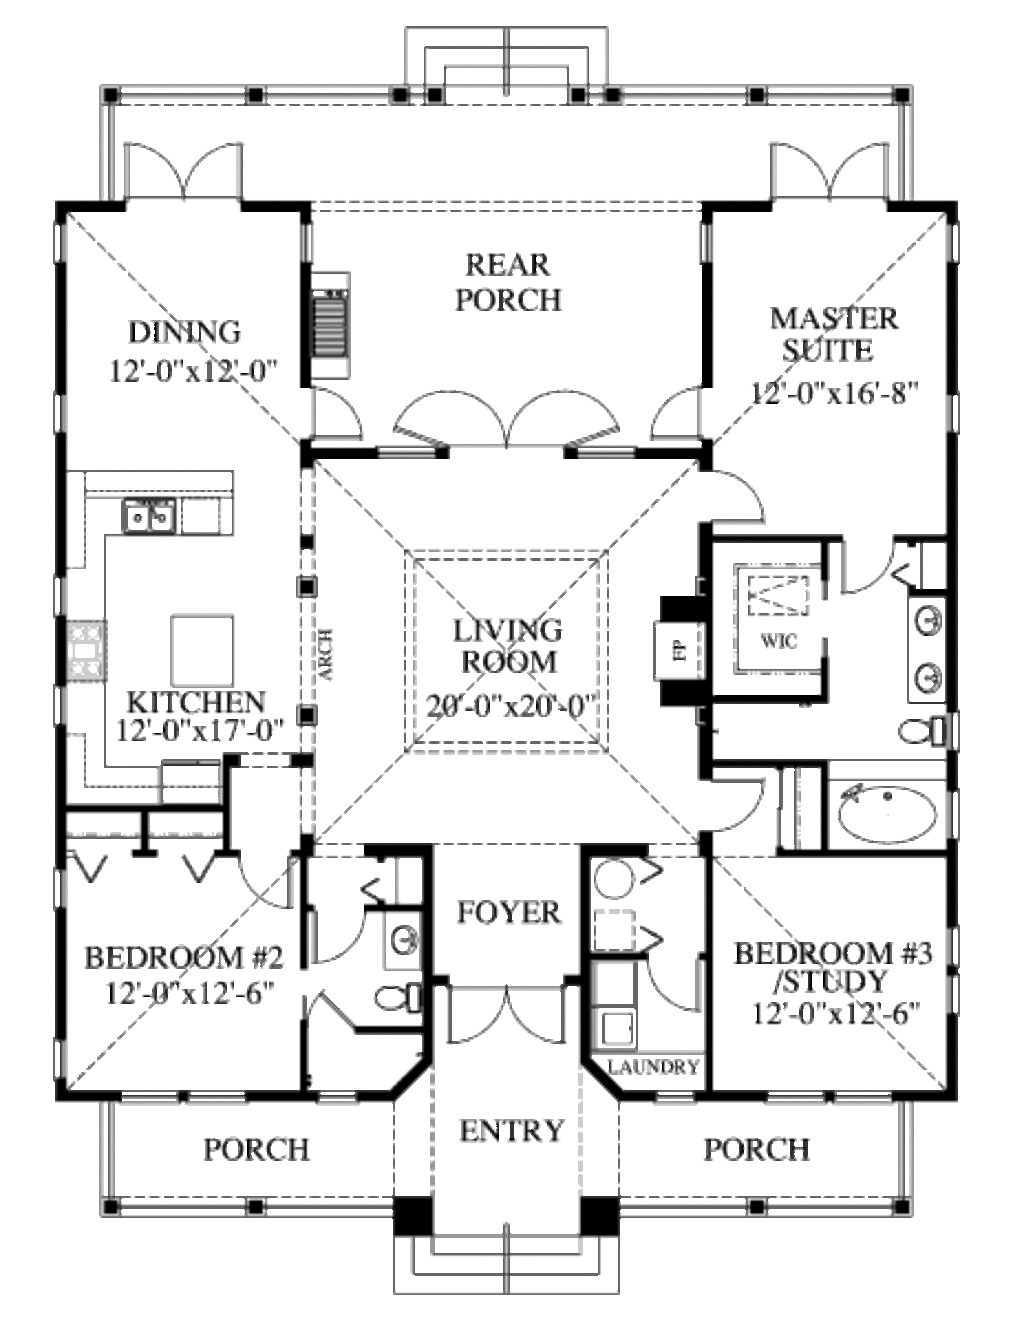door: (391, 386, 617, 456), (768, 138, 891, 208), (445, 983, 569, 1050), (121, 142, 253, 200), (227, 848, 301, 913), (701, 771, 769, 839), (706, 466, 769, 532), (649, 384, 711, 448), (838, 535, 900, 600), (646, 948, 704, 1014), (308, 907, 369, 969), (304, 388, 363, 446)
large_sink: (896, 713, 958, 749)
small_sink: (904, 593, 949, 702)
stairs: (401, 21, 628, 107), (386, 1228, 631, 1305)
tub: (834, 773, 949, 849)
twin_sink: (120, 493, 182, 536)
windows: (110, 1083, 251, 1111), (762, 1086, 896, 1108), (48, 862, 76, 917), (941, 215, 968, 270), (939, 382, 965, 438), (51, 567, 73, 628), (48, 219, 75, 270), (49, 388, 69, 440), (49, 676, 68, 729)
